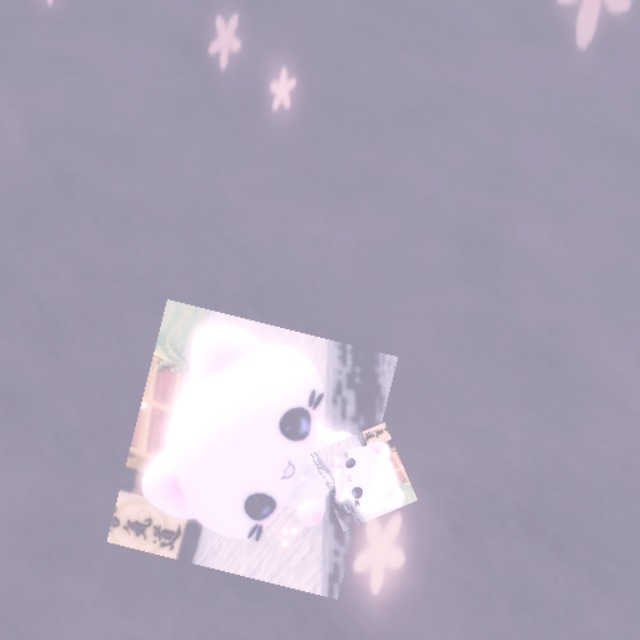urso_branco: (106, 298, 399, 601), (310, 422, 418, 532)
